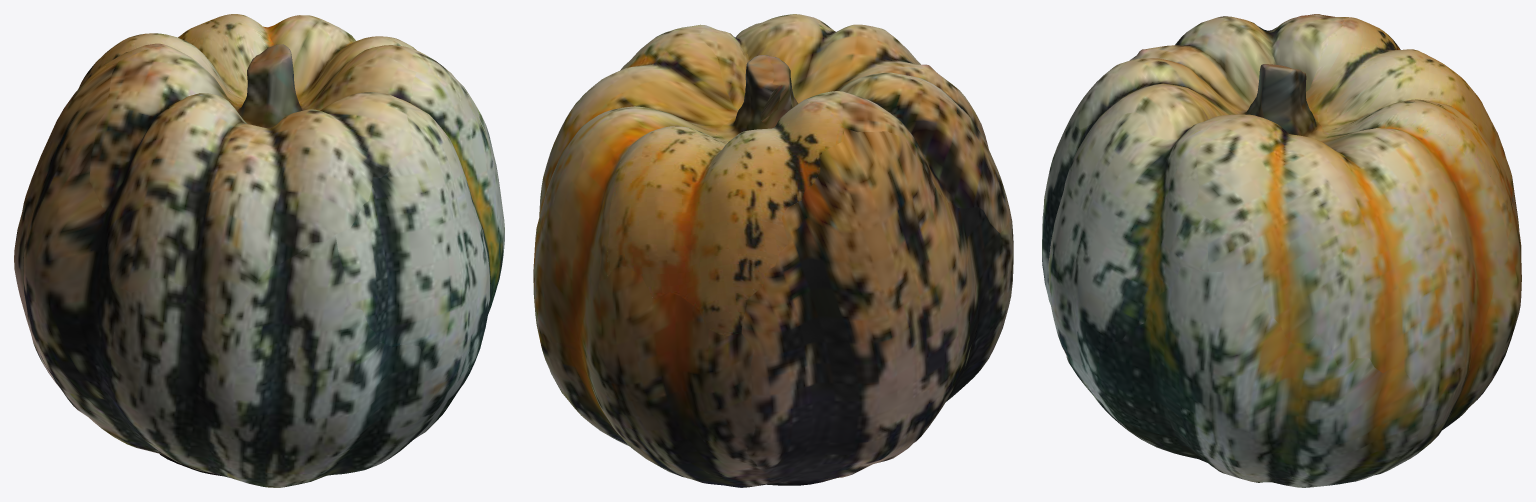
File: gourd-transformed.glb
3 renders of one model, left to right at view 1: azimuth 30°, elevation 25°; view 2: azimuth 150°, elevation 25°; view 3: azimuth 270°, elevation 25°, orthographic. The views are drawn at different scales.
Parts seen in each view (by area): view 1: Mesh_0, Mesh_2; view 2: Mesh_0, Mesh_2; view 3: Mesh_0, Mesh_2.
Part boxes in pixels (<box>): Mesh_0: <box>14,15,504,487</box>; Mesh_2: <box>78,14,273,106</box>; Mesh_0: <box>533,14,1013,487</box>; Mesh_2: <box>607,85,844,335</box>; Mesh_0: <box>1042,14,1521,487</box>; Mesh_2: <box>1306,17,1515,225</box>.
Size of the model in its own units: 19.7 by 18.28 by 20.11.
Materials: 3 (3 with a texture image).
